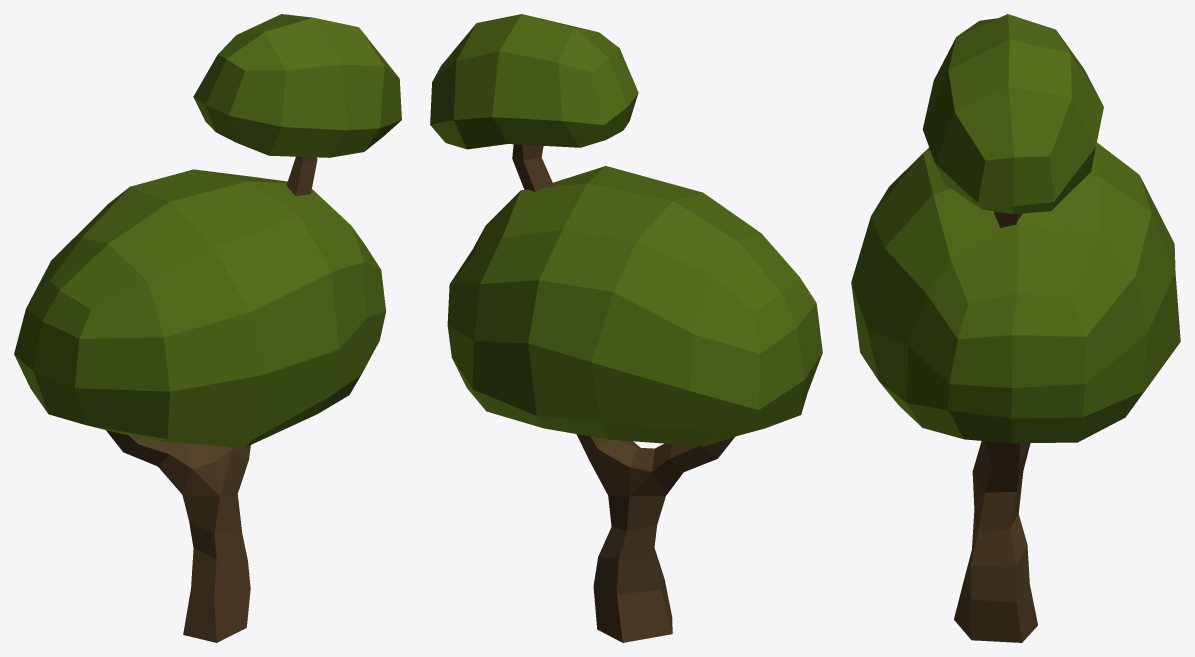
Rendered from TreesAndBushes_068.fbx.
3 views of the same model, side by side, from view 1: azimuth 30°, elevation 25°; view 2: azimuth 150°, elevation 25°; view 3: azimuth 270°, elevation 25° (orthographic). The views are drawn at different scales.
Visible parts, largest first — view 1: TreesAndBushes_068; view 2: TreesAndBushes_068; view 3: TreesAndBushes_068.
Part boxes in pixels (left/top/right/bottom): TreesAndBushes_068: left=14, top=14, right=401, bottom=642; TreesAndBushes_068: left=430, top=14, right=822, bottom=642; TreesAndBushes_068: left=851, top=14, right=1180, bottom=642.
Size of the model in its own units: 145 by 225 by 104.
